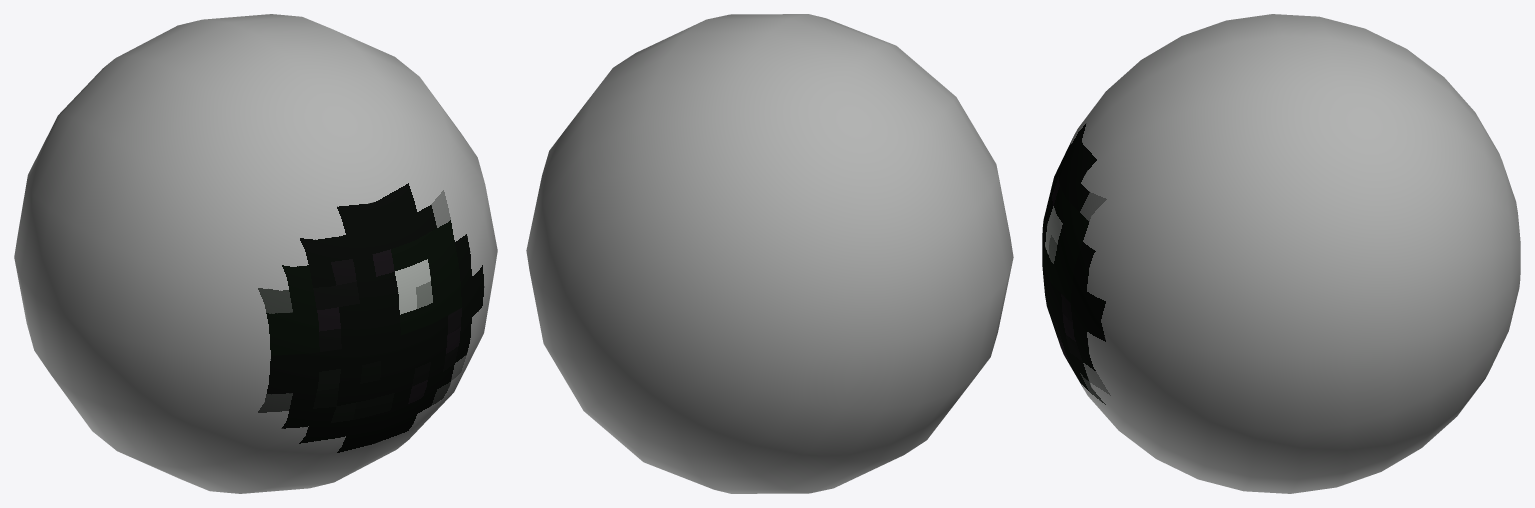
The model's file is ojo.fbx.
The picture shows the model from 3 angles, left to right: view 1: azimuth 30°, elevation 25°; view 2: azimuth 150°, elevation 25°; view 3: azimuth 270°, elevation 25°; orthographic projection.
Parts seen in each view (by area): view 1: node_id92; view 2: node_id92; view 3: node_id92.
Part boxes in pixels (x1,y1,x2,y2): node_id92: [14, 14, 497, 493]; node_id92: [526, 14, 1013, 493]; node_id92: [1042, 14, 1520, 493].
Bounding box in the file's own units: 0.5095 × 0.512 × 0.5095.
Materials: 1 (1 with a texture image).
